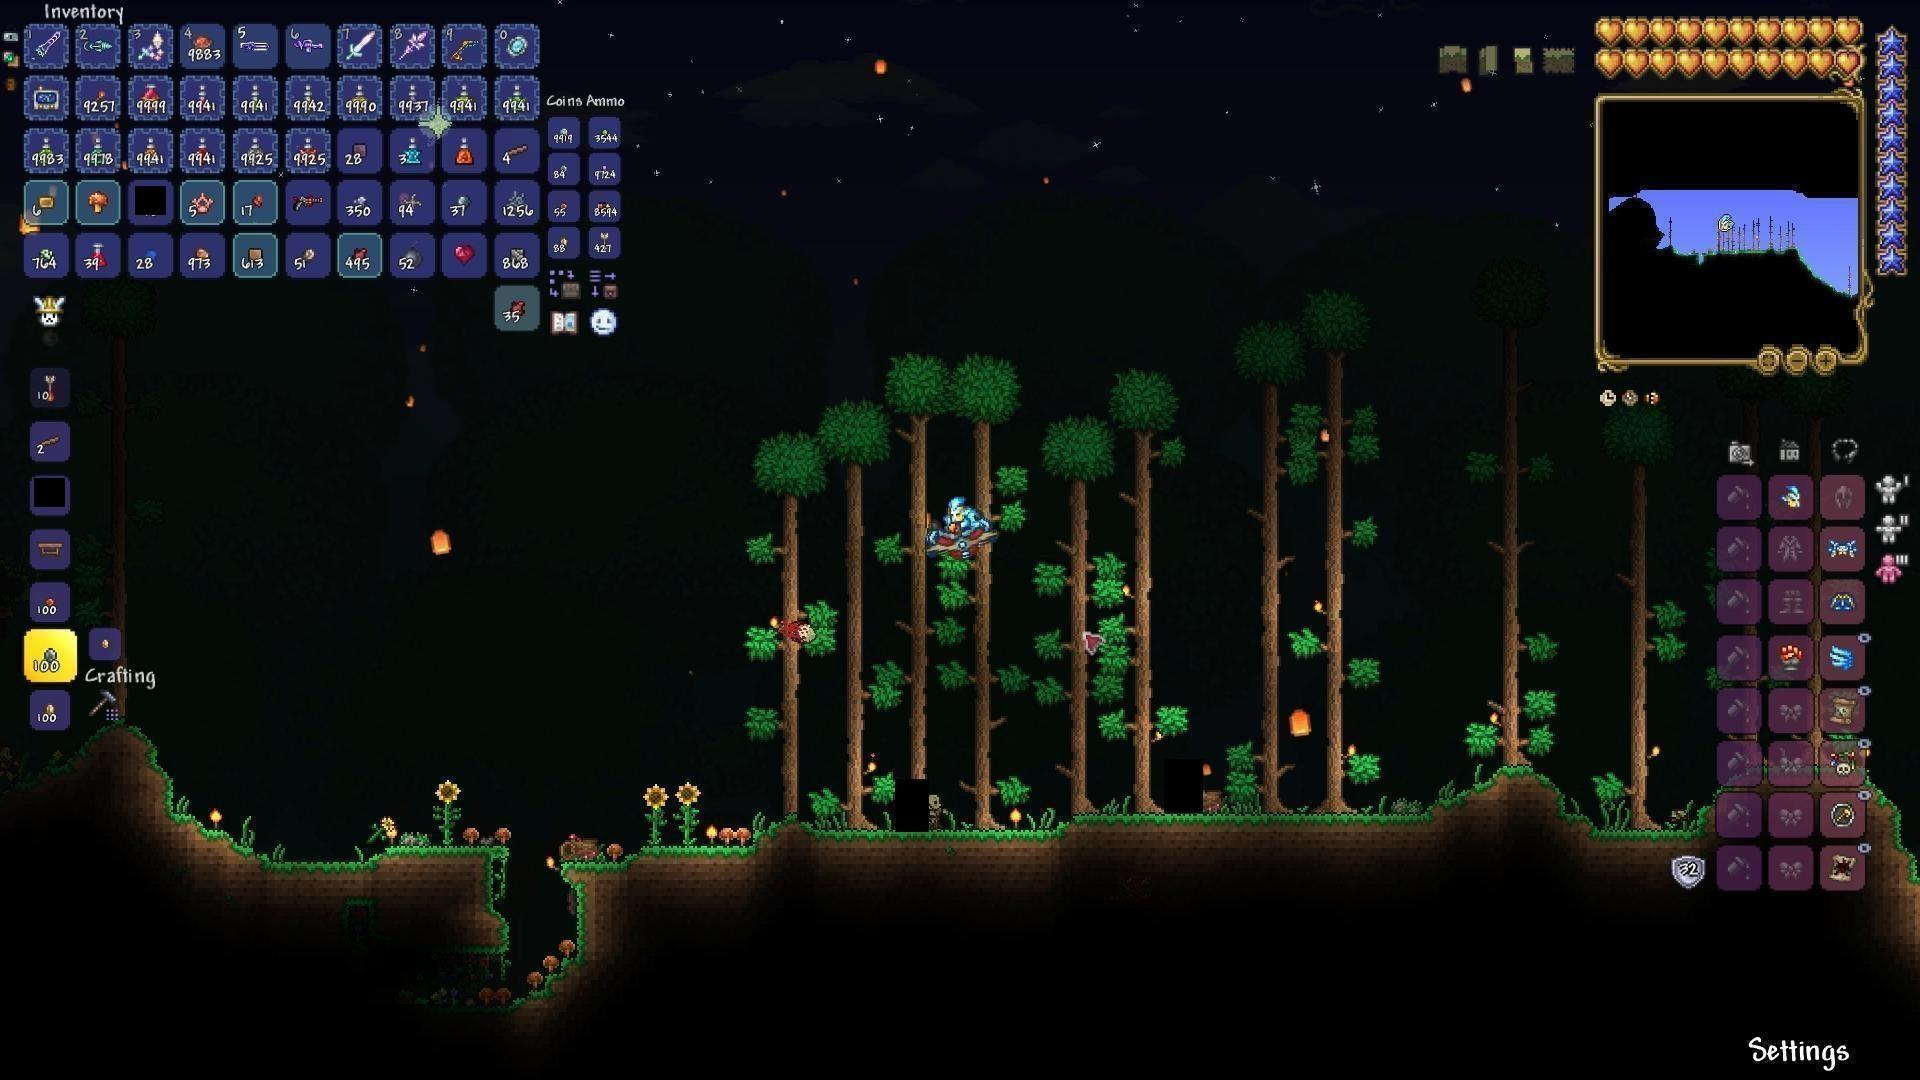workbench: (34, 535, 66, 562)
